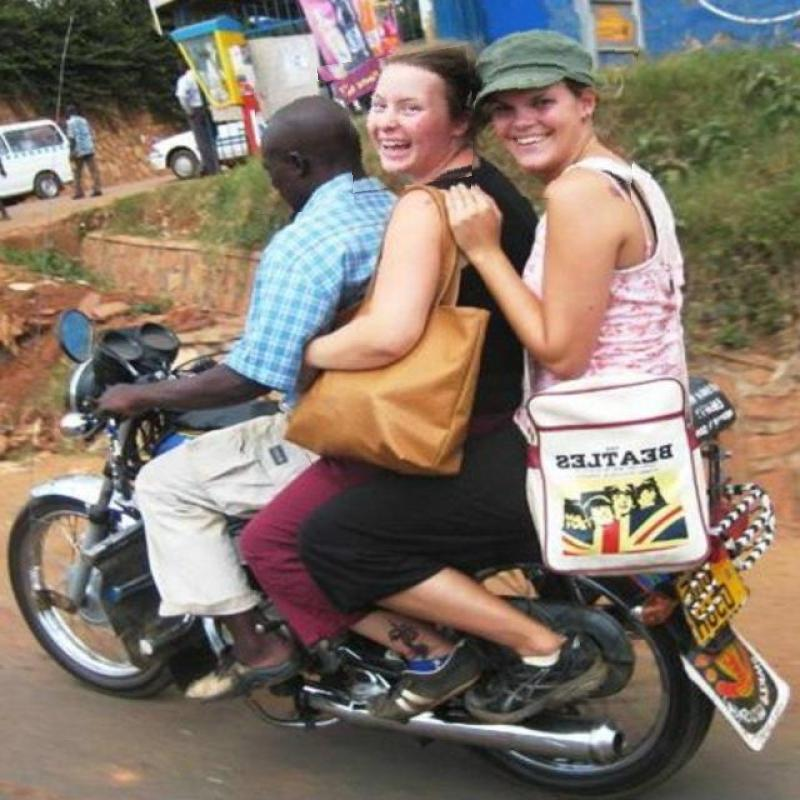nohelmet: (473, 9, 638, 200), (321, 51, 479, 190), (256, 82, 352, 214)
